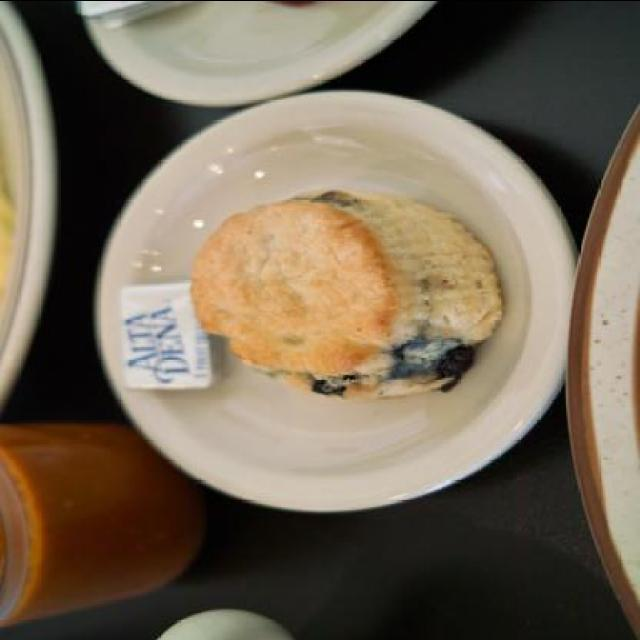Juice: (0, 423, 202, 625)
